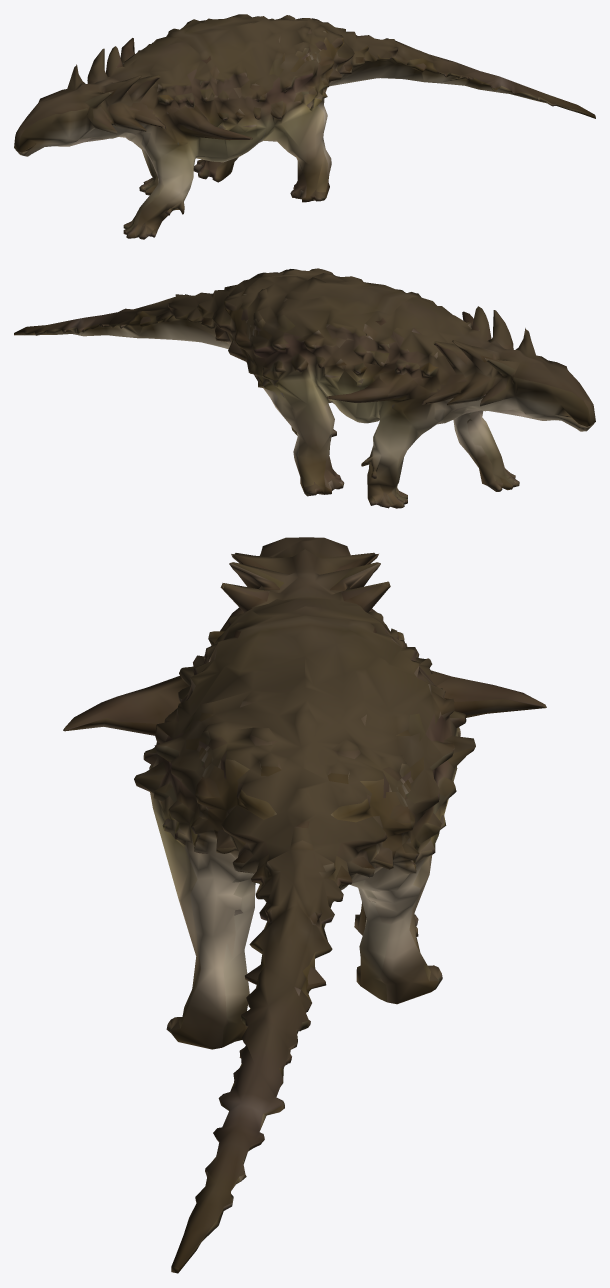
File: nature-sauropelta.glb
3 renders of one model, top to bottom at view 1: azimuth 30°, elevation 25°; view 2: azimuth 150°, elevation 25°; view 3: azimuth 270°, elevation 25°, orthographic. The views are drawn at different scales.
Parts seen in each view (by area): view 1: Animal; view 2: Animal; view 3: Animal.
Part boxes in pixels (<box>): Animal: <box>14,14,595,239</box>; Animal: <box>14,268,595,508</box>; Animal: <box>63,537,546,1273</box>.
Size of the model in its own units: 3.2 by 0.9263 by 1.22.
Materials: 1 (1 with a texture image).
